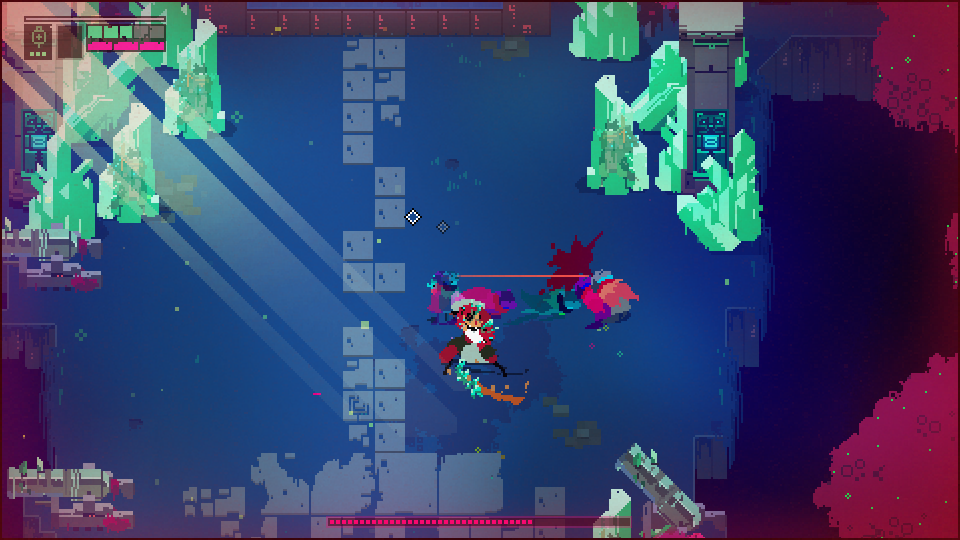hanged_man: (440, 298, 516, 412)
player: (586, 268, 638, 323)
